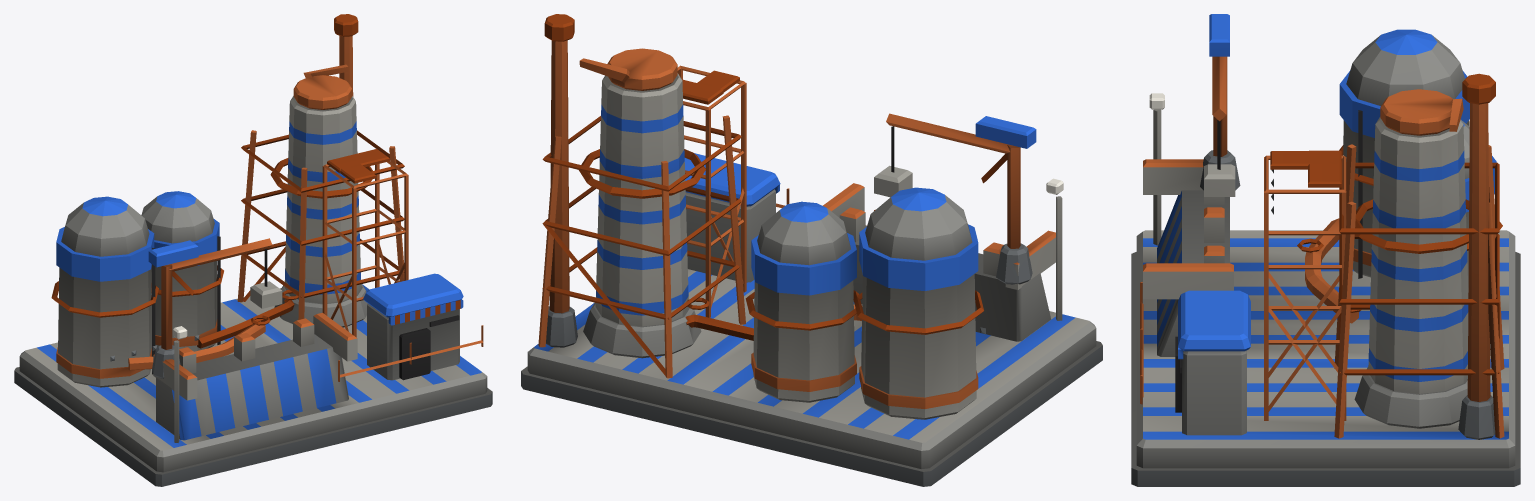
3 views of the same model, side by side, from view 1: azimuth 30°, elevation 25°; view 2: azimuth 150°, elevation 25°; view 3: azimuth 270°, elevation 25° (orthographic). The views are drawn at different scales.
Parts seen in each view (by area): view 1: body, scaffoldFrame, spinCrane; view 2: body, spinCrane, scaffoldFrame; view 3: body, scaffoldFrame, spinCrane.
Boxes of the visible parts, x1=… form: body: x1=14, y1=14, x2=492, y2=486; scaffoldFrame: x1=322, y1=149, x2=408, y2=337; spinCrane: x1=148, y1=238, x2=282, y2=349; body: x1=521, y1=14, x2=1102, y2=486; spinCrane: x1=874, y1=113, x2=1036, y2=248; scaffoldFrame: x1=677, y1=65, x2=746, y2=317; body: x1=1131, y1=29, x2=1520, y2=486; scaffoldFrame: x1=1264, y1=150, x2=1346, y2=420; spinCrane: x1=1204, y1=14, x2=1235, y2=196.
Size of the model in its own units: 4 by 3.36 by 3.
